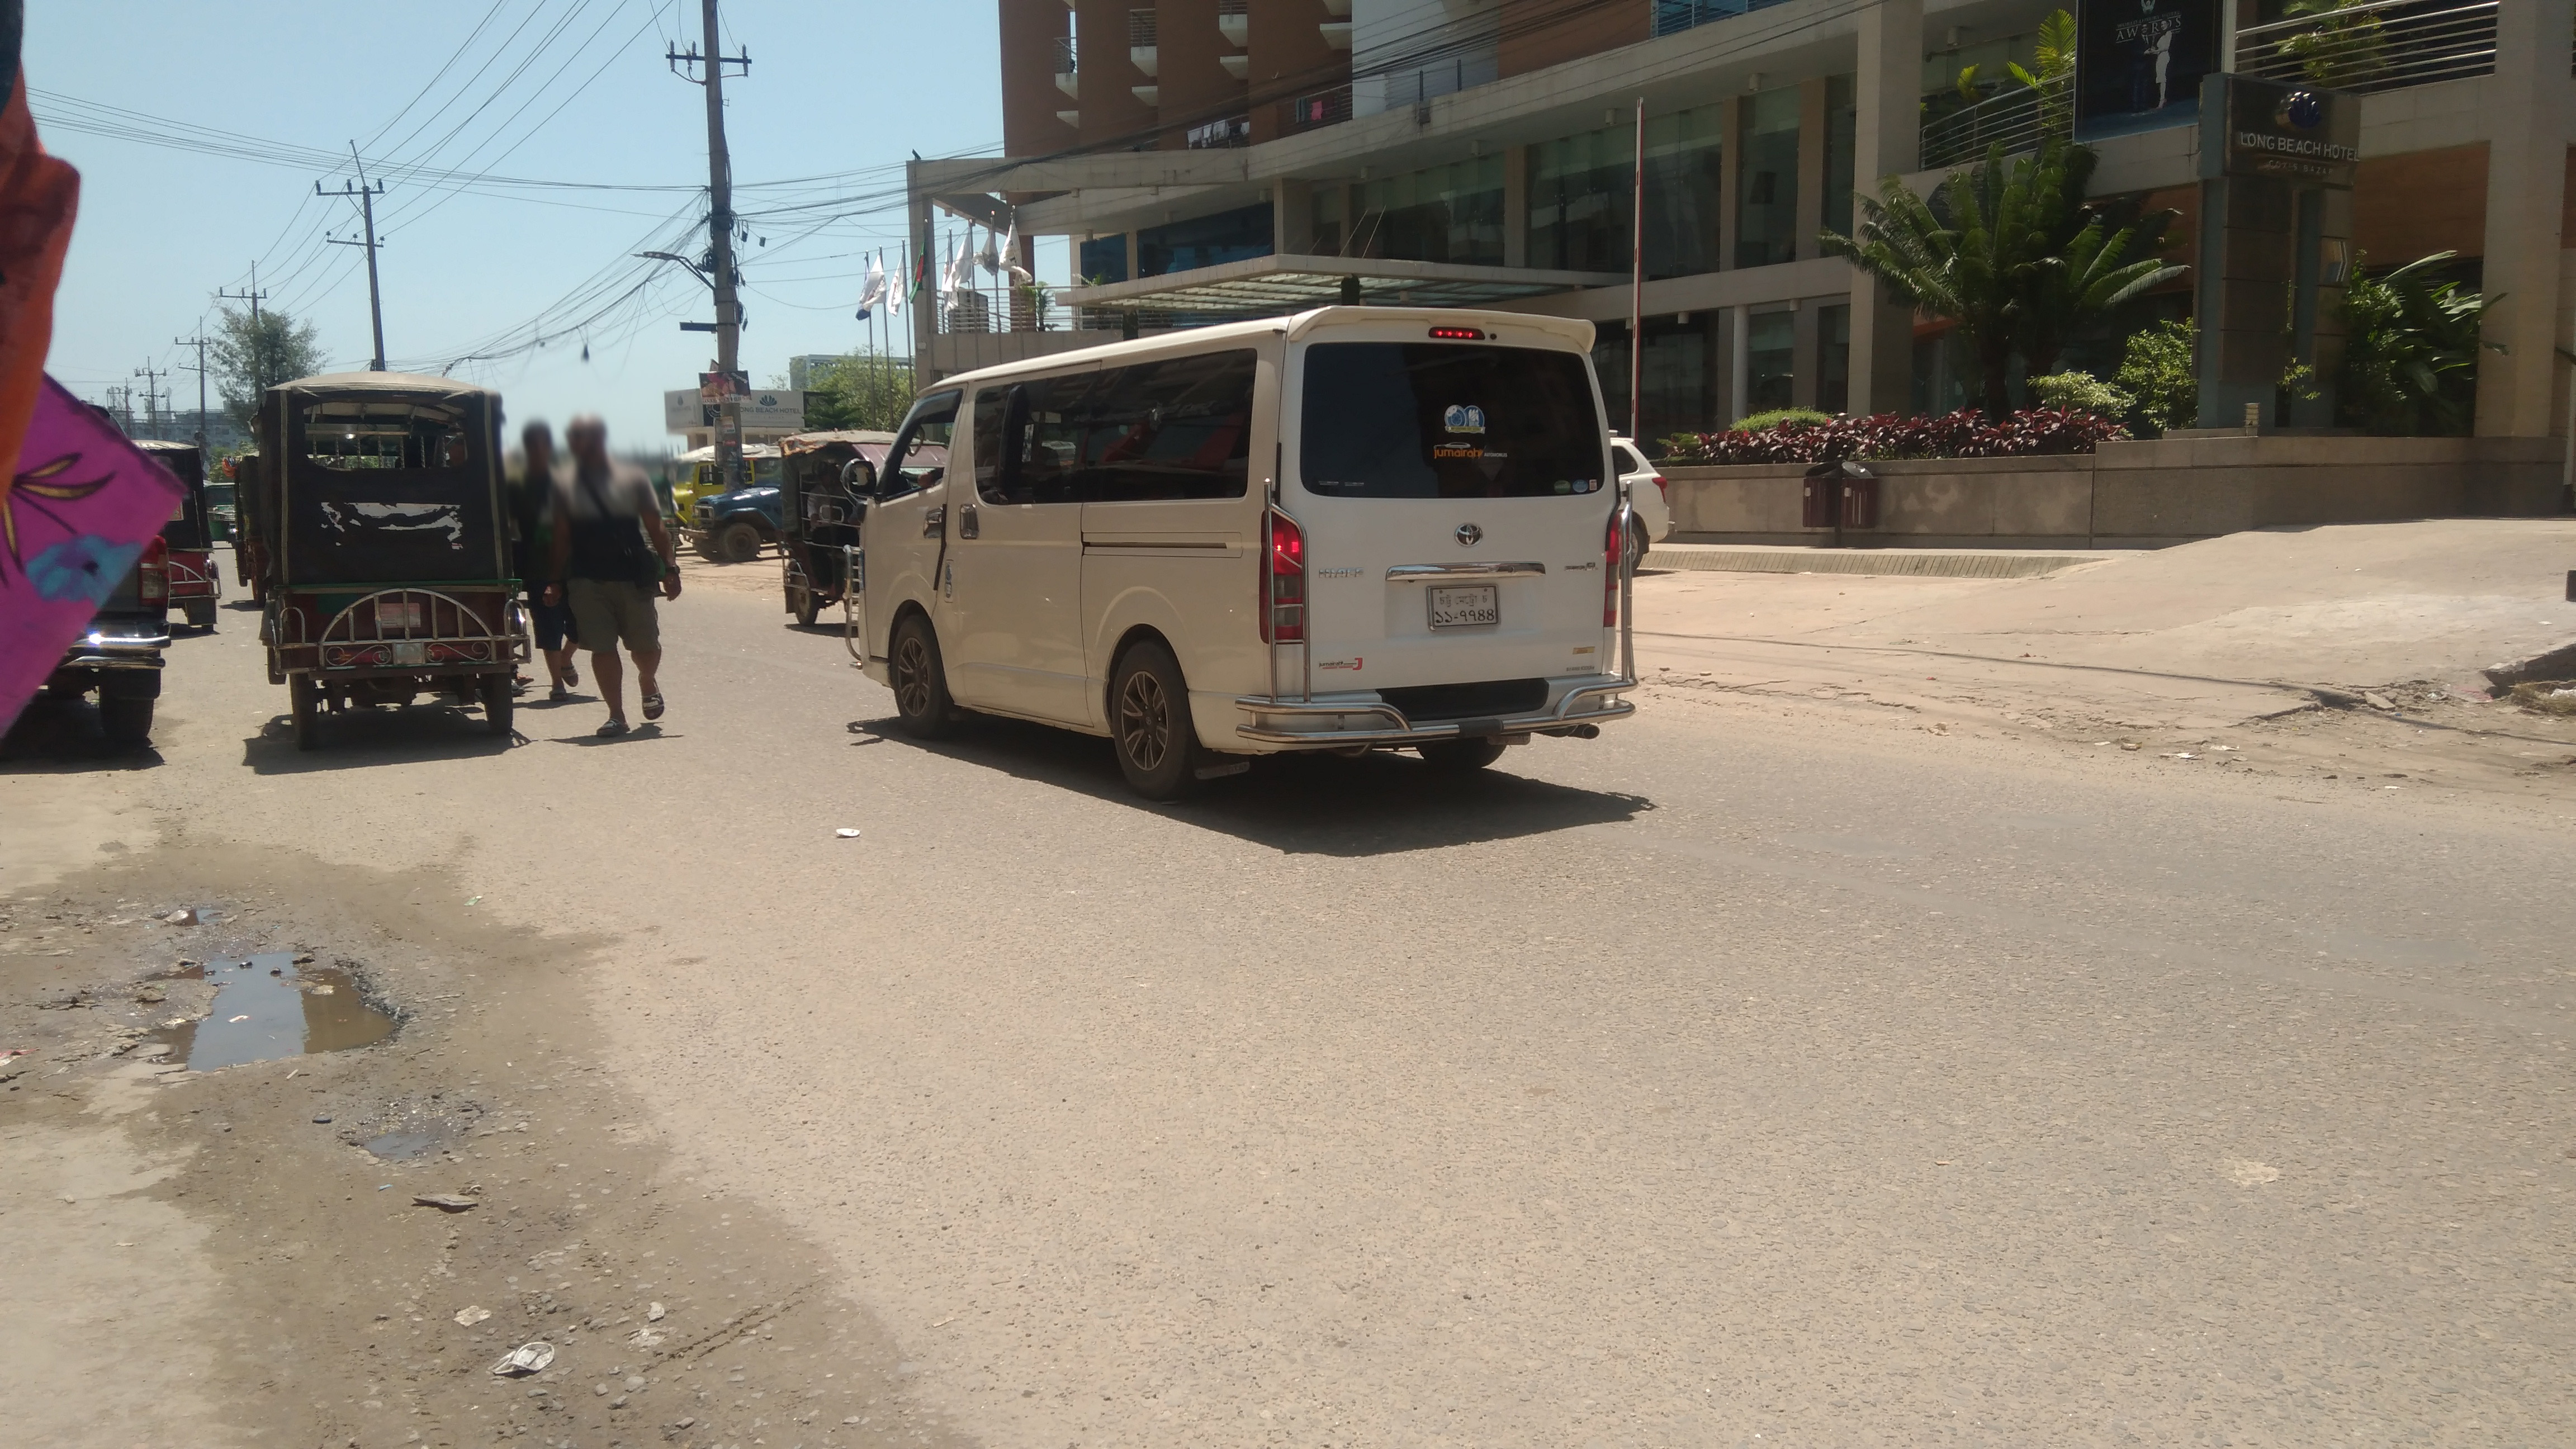car: (855, 301, 1626, 791), (1599, 419, 1690, 598)
easybike: (249, 370, 527, 755), (87, 403, 226, 663), (780, 421, 939, 649)
